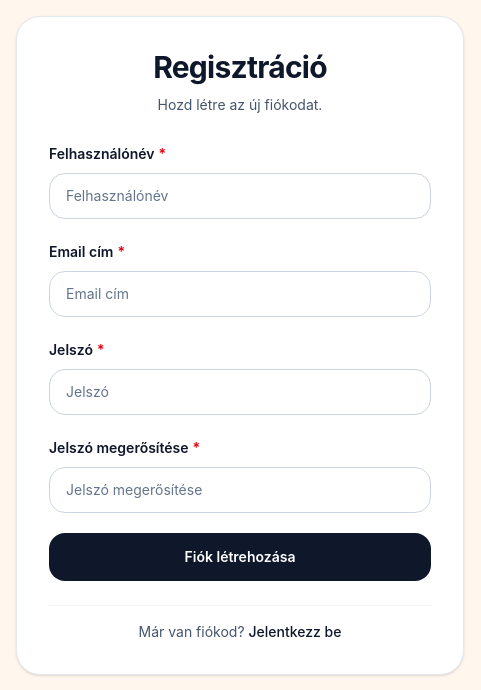
Scenario: RegisterPage › shows a general backend error when registration fails without field errors
This screenshot has width=481, height=690.
In the field labelled "Felhasználónév*": [240, 196] box [49,173,431,219], type "  anna  "
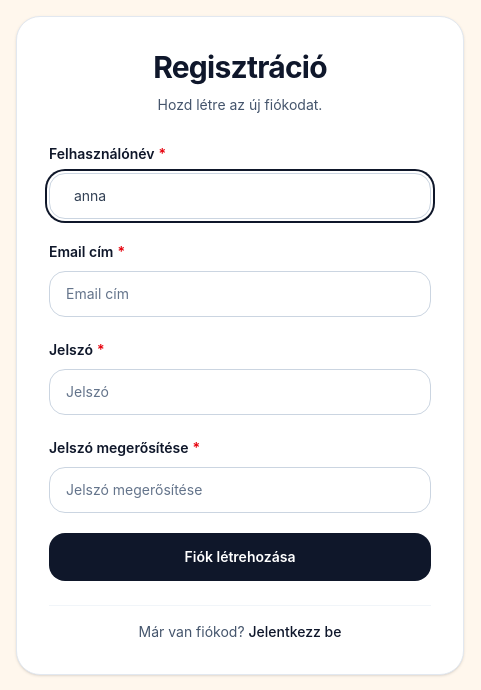
In the field labelled "Email cím*": [240, 294] box [49,271,431,317], type "  anna@gmail.com  "
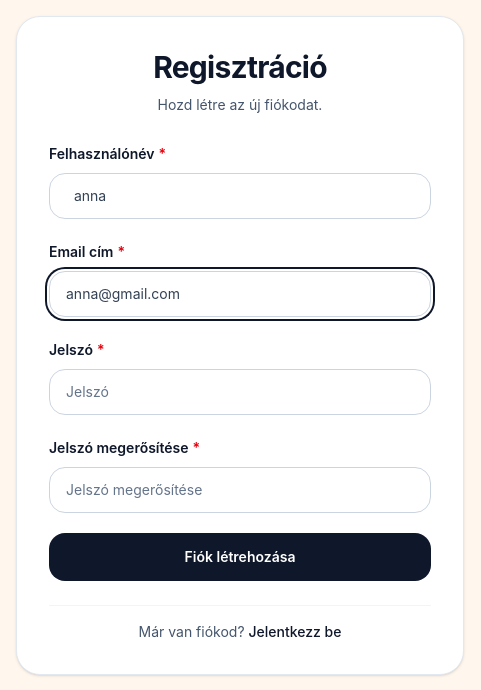
In the password field labelled "Jelszó*": [240, 392] box [49,369,431,415], type "titok123"
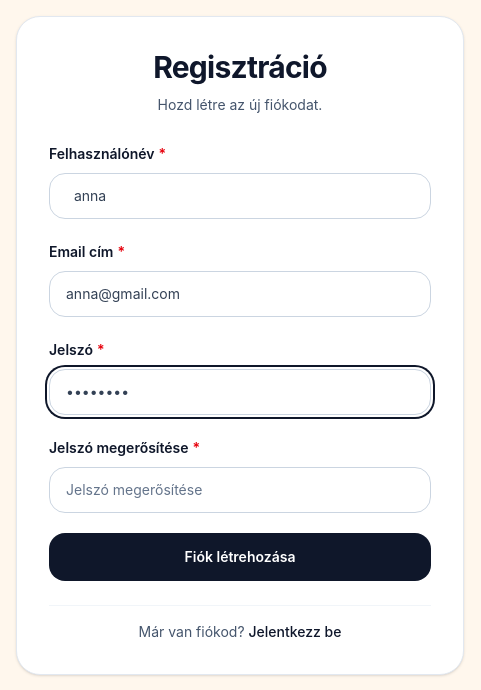
In the password field labelled "Jelszó megerősítése*": [240, 490] box [49,467,431,513], type "titok123"
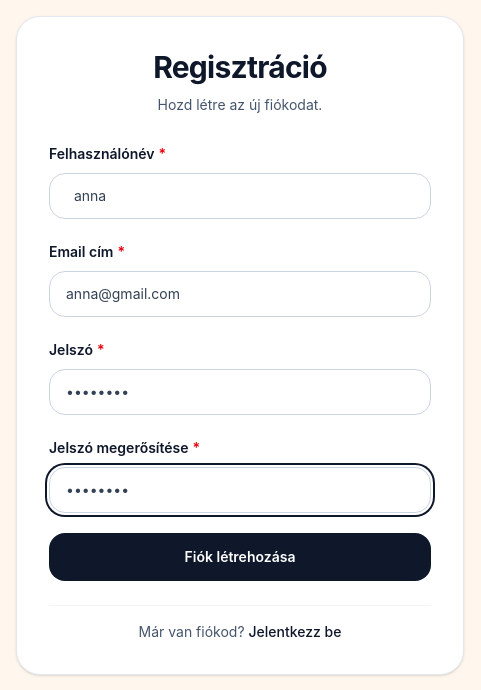
Click the button "Fiók létrehozása": [240, 557] box [49,533,431,581]
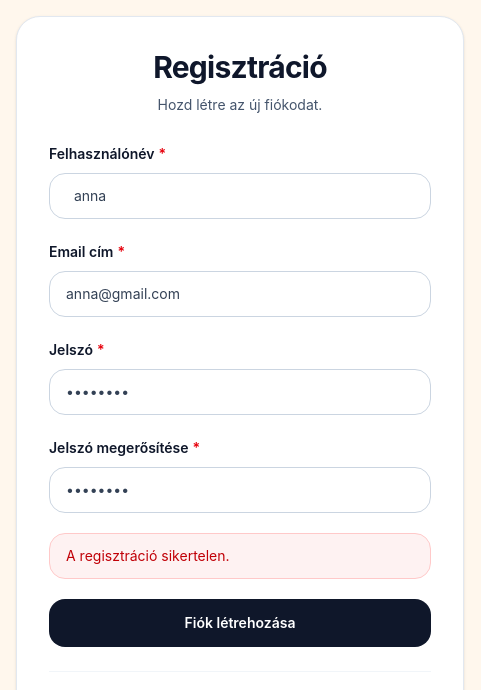
Expected: the message reads "A regisztráció sikertelen.", [66,547,230,564]
